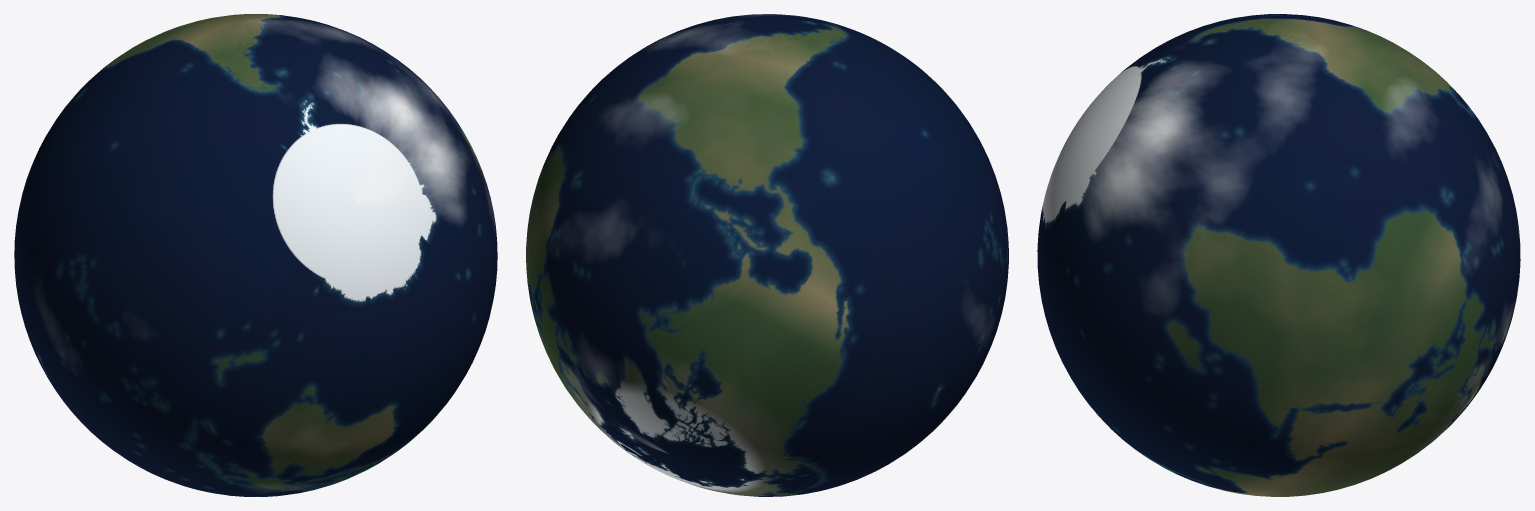
Rendered from tierra.glb.
3 views of the same model, side by side, from view 1: azimuth 30°, elevation 25°; view 2: azimuth 150°, elevation 25°; view 3: azimuth 270°, elevation 25° (orthographic).
Parts seen in each view (by area): view 1: Tierra_Estacion, Tierra_Detalle_Estacion; view 2: Tierra_Estacion, Tierra_Detalle_Estacion; view 3: Tierra_Estacion, Tierra_Detalle_Estacion.
Part boxes in pixels (bbox=[...]): Tierra_Estacion: bbox=[14, 14, 497, 496]; Tierra_Detalle_Estacion: bbox=[204, 20, 300, 62]; Tierra_Estacion: bbox=[526, 14, 1008, 496]; Tierra_Detalle_Estacion: bbox=[716, 20, 812, 64]; Tierra_Estacion: bbox=[1037, 14, 1520, 496]; Tierra_Detalle_Estacion: bbox=[1238, 24, 1320, 56].
Size of the model in its own units: 2000 by 2000 by 1999.
2 materials, 2 textured.
